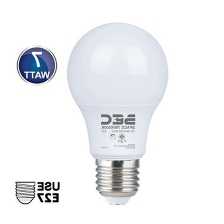light_bulb: (62, 15, 173, 210)
